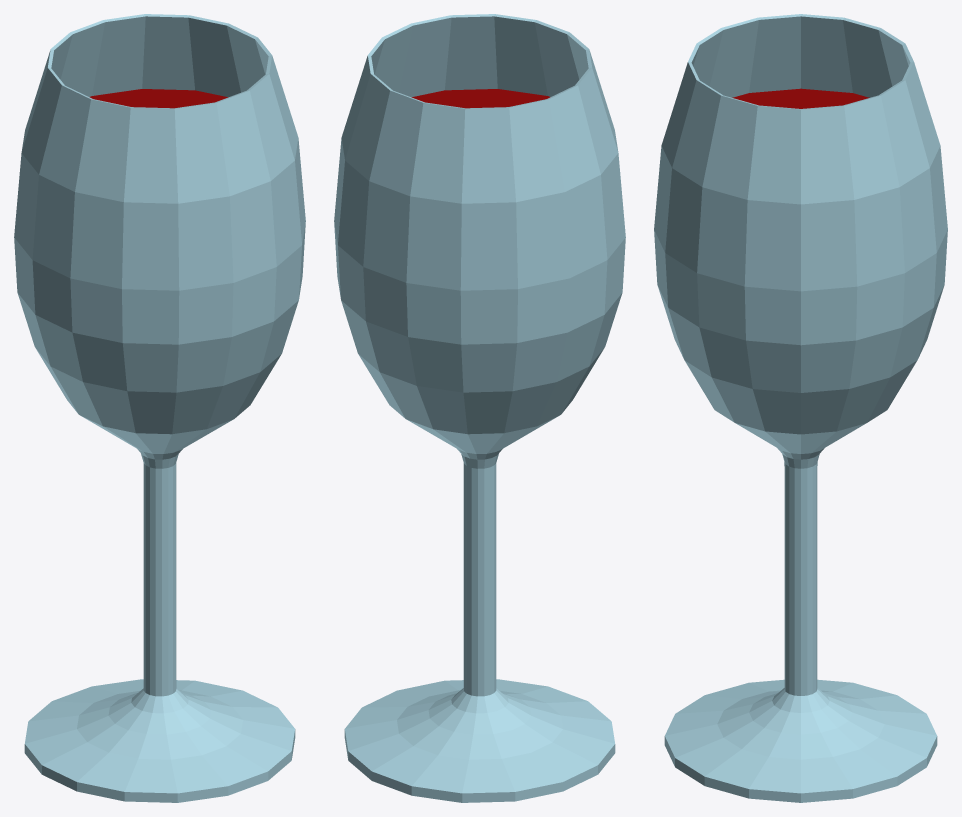
The model's file is Copa03_Vino.fbx.
The picture shows the model from 3 angles, left to right: view 1: azimuth 30°, elevation 25°; view 2: azimuth 150°, elevation 25°; view 3: azimuth 270°, elevation 25°; orthographic projection.
Visible parts, largest first — view 1: Copa03_Vino; view 2: Copa03_Vino; view 3: Copa03_Vino.
Boxes of the visible parts, x1,y1,x2,y2 form: Copa03_Vino: (14, 14, 305, 802); Copa03_Vino: (334, 14, 625, 802); Copa03_Vino: (654, 14, 947, 802).
Bounding box in the file's own units: 7.87 × 20.19 × 7.87.
